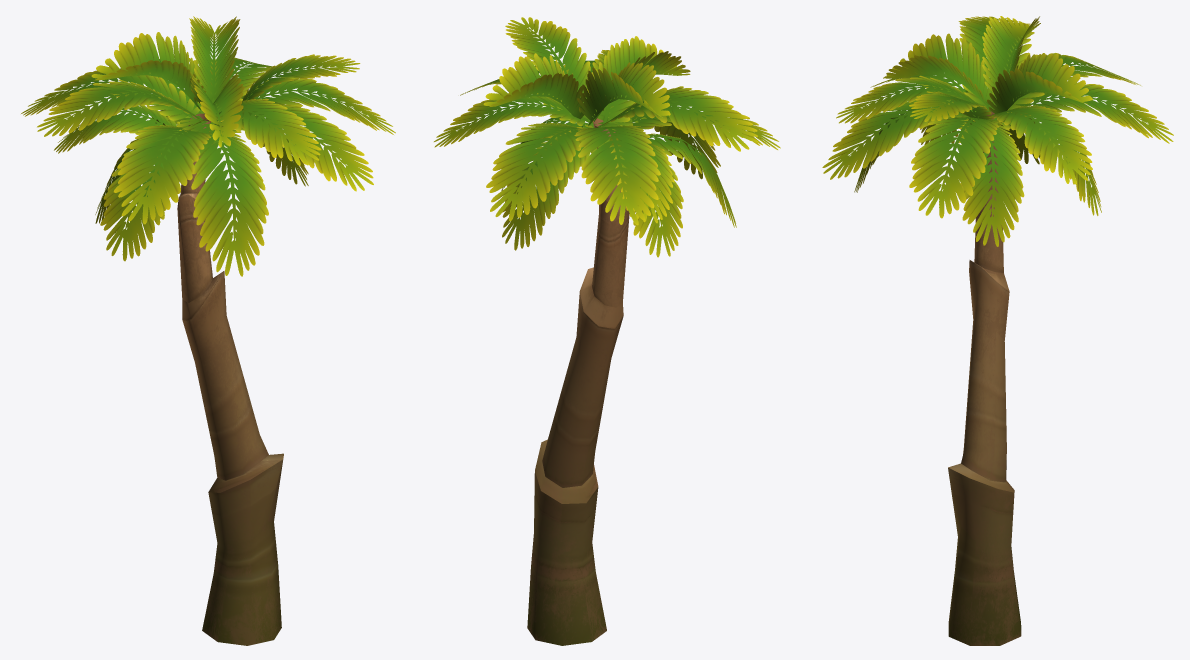
Rendered from PalmTree02_L.fbx.
The picture shows the model from 3 angles, left to right: view 1: azimuth 30°, elevation 25°; view 2: azimuth 150°, elevation 25°; view 3: azimuth 270°, elevation 25°; orthographic projection. The views are drawn at different scales.
Visible parts, largest first — view 1: PalmTree02_L.; view 2: PalmTree02_L.; view 3: PalmTree02_L..
Part boxes in pixels (x1=…): PalmTree02_L.: x1=21, y1=16, x2=395, y2=645; PalmTree02_L.: x1=434, y1=17, x2=780, y2=645; PalmTree02_L.: x1=822, y1=16, x2=1173, y2=645.
Size of the model in its own units: 519 by 897 by 507.
2 materials, 2 textured.
